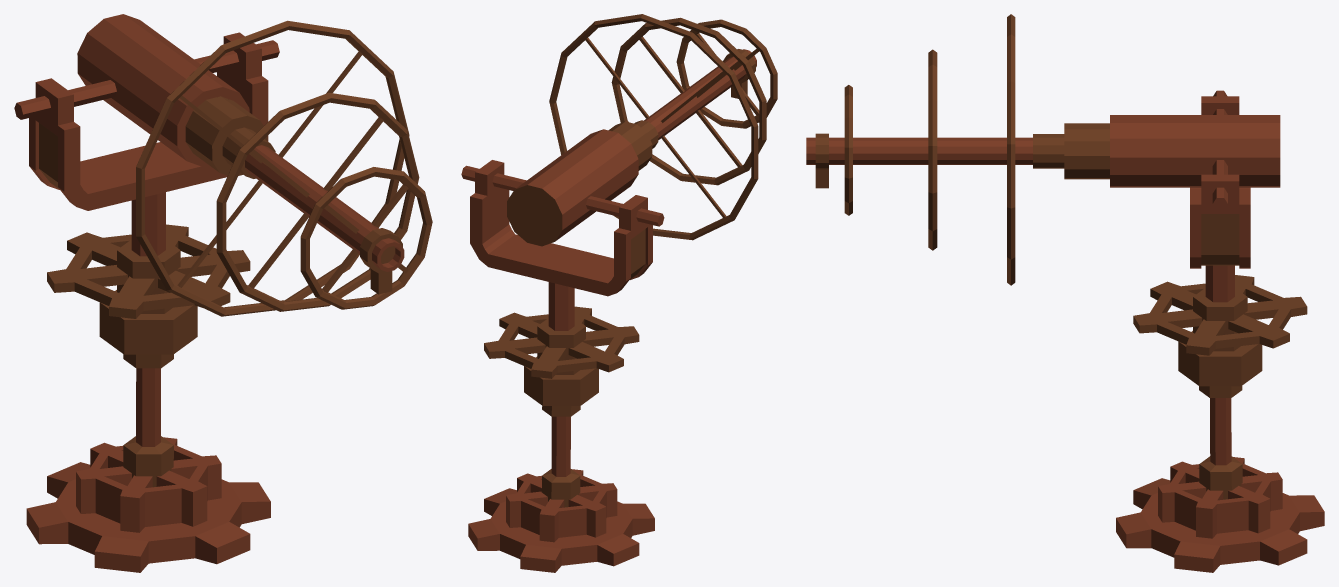
Rendered from Laser_1.glb.
3 renders of one model, left to right at view 1: azimuth 30°, elevation 25°; view 2: azimuth 150°, elevation 25°; view 3: azimuth 270°, elevation 25°, orthographic. The views are drawn at different scales.
Parts seen in each view (by area): view 1: Laser_1_Gun, Laser_1_Mid, Laser_1_Base; view 2: Laser_1_Mid, Laser_1_Gun, Laser_1_Base; view 3: Laser_1_Gun, Laser_1_Mid, Laser_1_Base.
Boxes of the visible parts, bbox=[...] form: Laser_1_Gun: bbox=[77, 14, 432, 316]; Laser_1_Mid: bbox=[14, 32, 279, 487]; Laser_1_Base: bbox=[26, 437, 270, 572]; Laser_1_Mid: bbox=[461, 160, 664, 507]; Laser_1_Gun: bbox=[507, 14, 777, 246]; Laser_1_Base: bbox=[468, 469, 654, 572]; Laser_1_Gun: bbox=[806, 14, 1280, 285]; Laser_1_Mid: bbox=[1133, 90, 1307, 499]; Laser_1_Base: bbox=[1116, 457, 1324, 572].
Bounding box in the file's own units: 0.9975 × 2.05 × 1.91.
